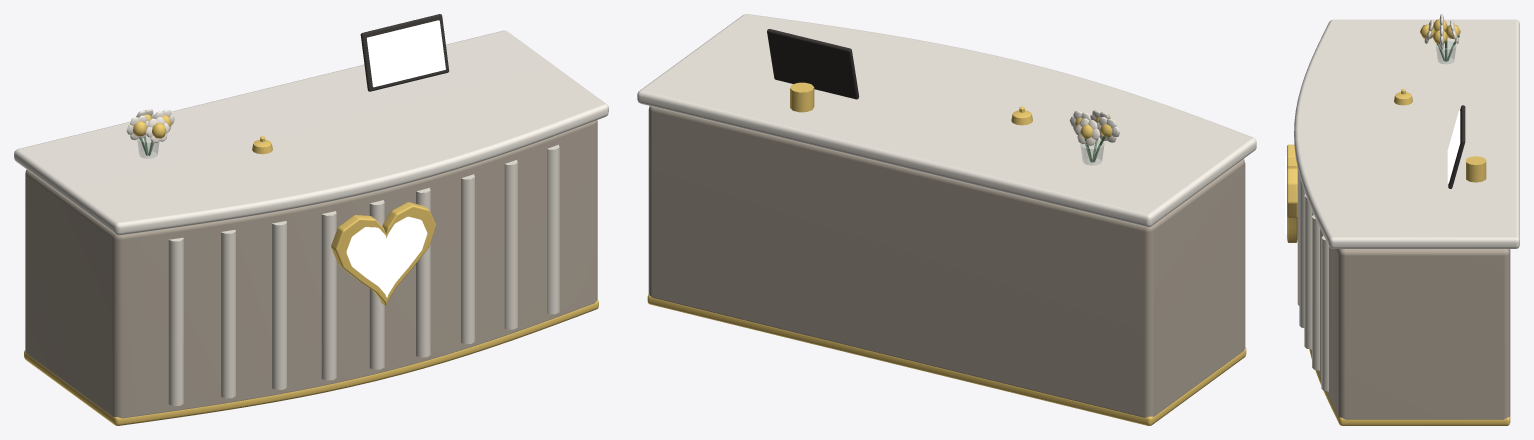
The model's file is reception_desk_curved.glb.
3 views of the same model, side by side, from view 1: azimuth 30°, elevation 25°; view 2: azimuth 150°, elevation 25°; view 3: azimuth 270°, elevation 25° (orthographic). The views are drawn at different scales.
Visible parts, largest first — view 1: reception_desk_curved; view 2: reception_desk_curved; view 3: reception_desk_curved.
Part boxes in pixels (<box>): reception_desk_curved: <box>14,14,608,425</box>; reception_desk_curved: <box>637,14,1256,425</box>; reception_desk_curved: <box>1285,14,1519,425</box>.
Size of the model in its own units: 2.45 by 1.27 by 1.1.
